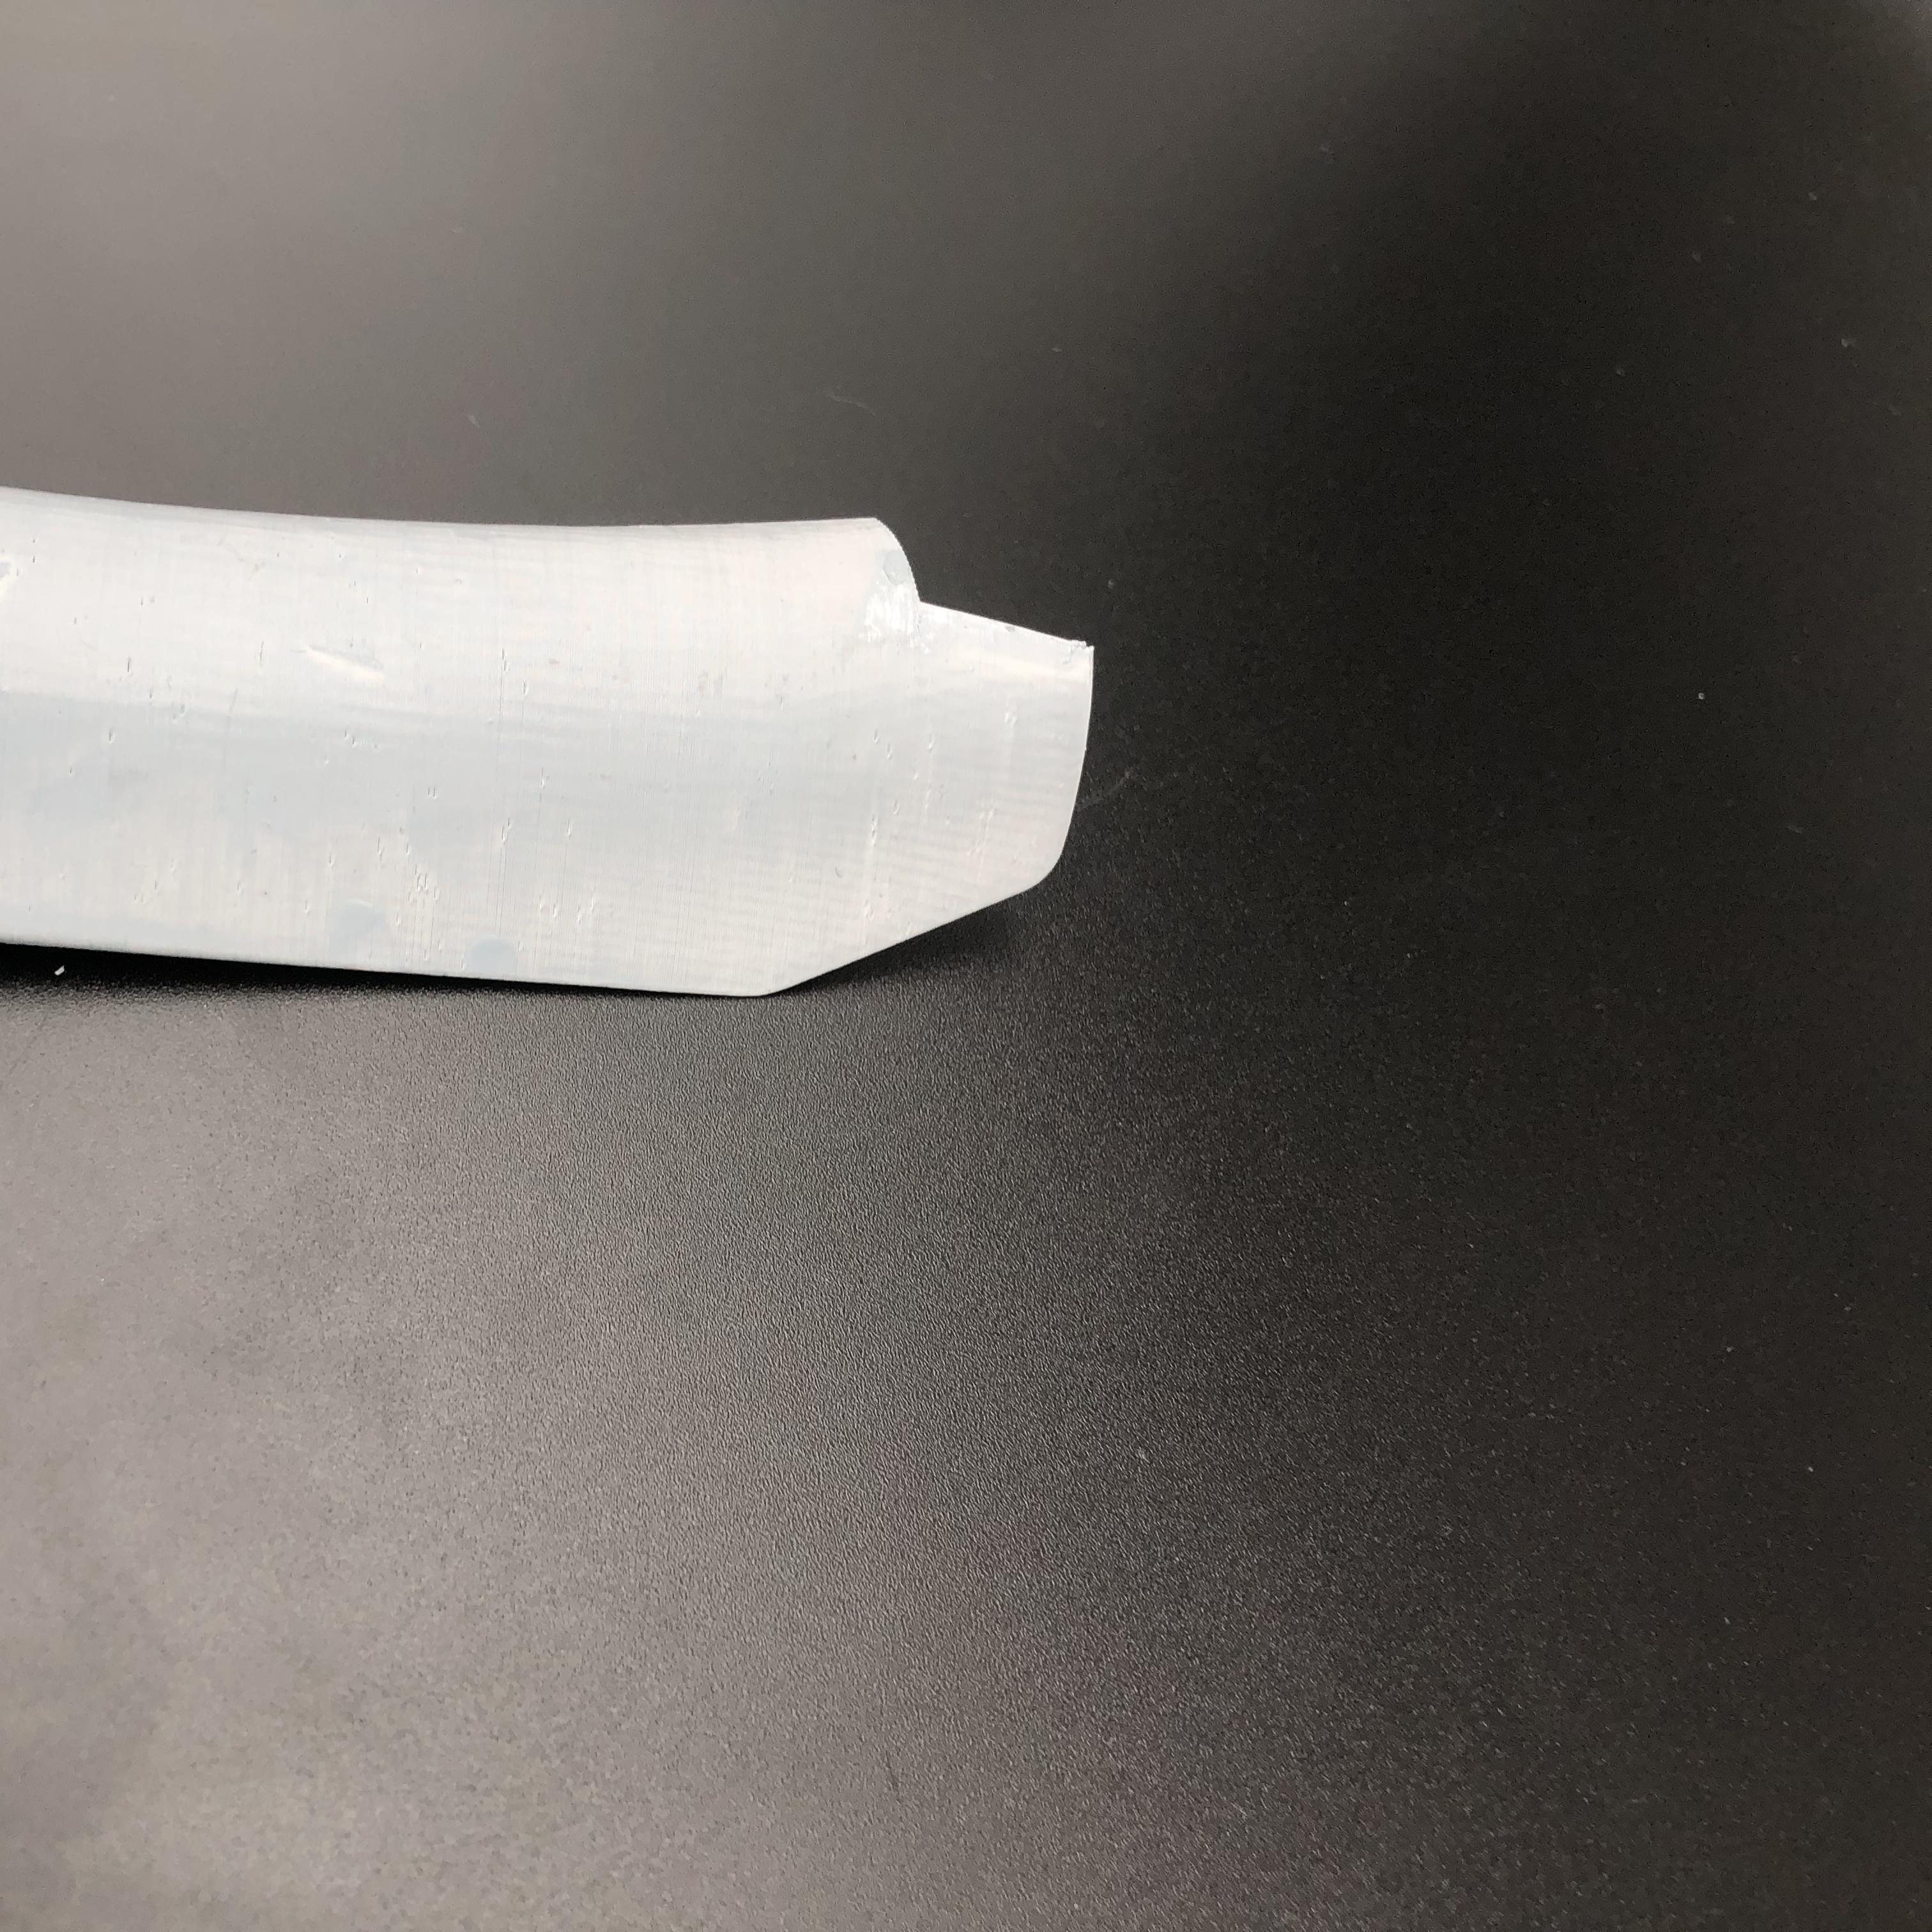fracture: (849, 529, 1088, 662)
